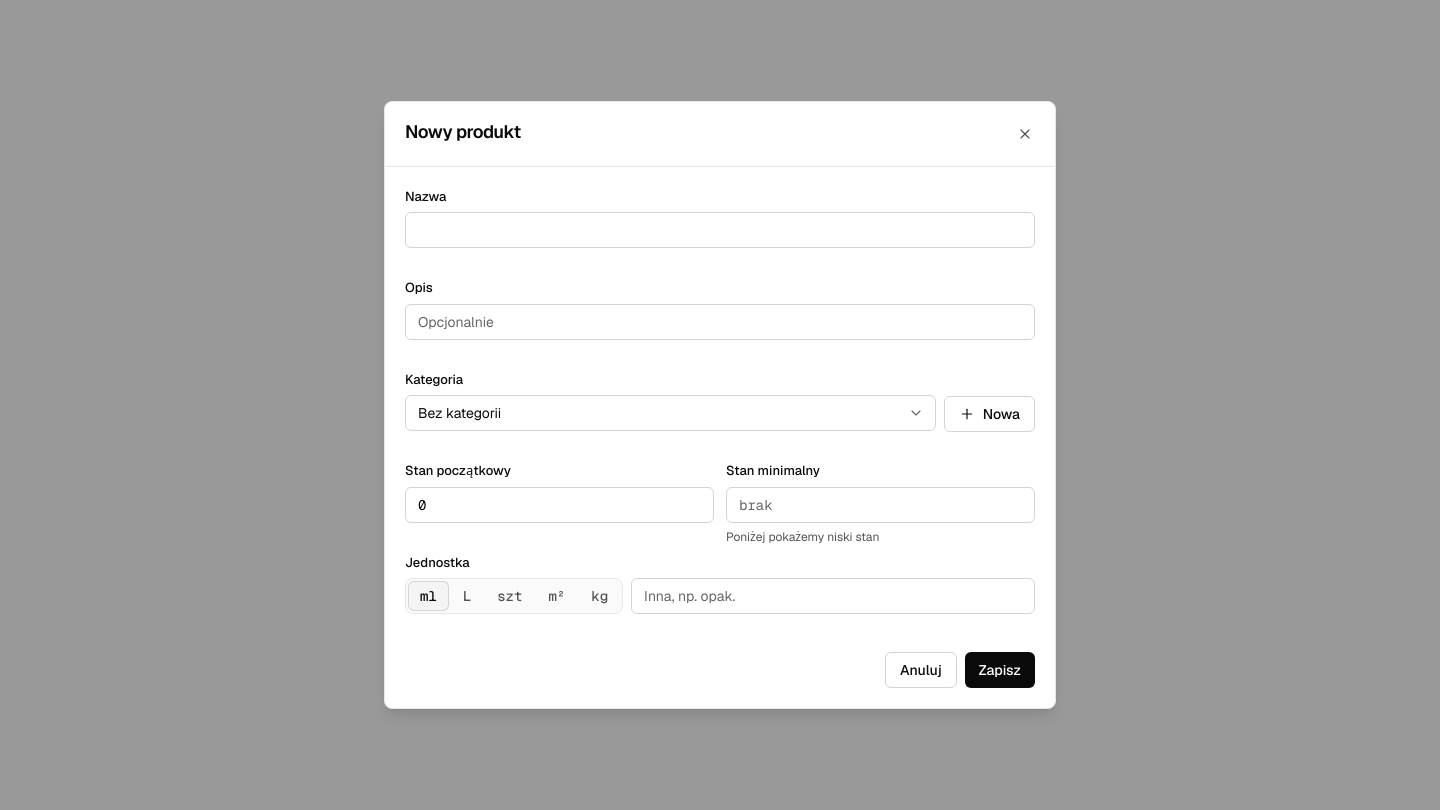
Test case: InventoryItemModal › shows validation errors and does not save an empty item
Step 1. Click the button "Zapisz" → (1000, 670), box [965,652,1035,688]
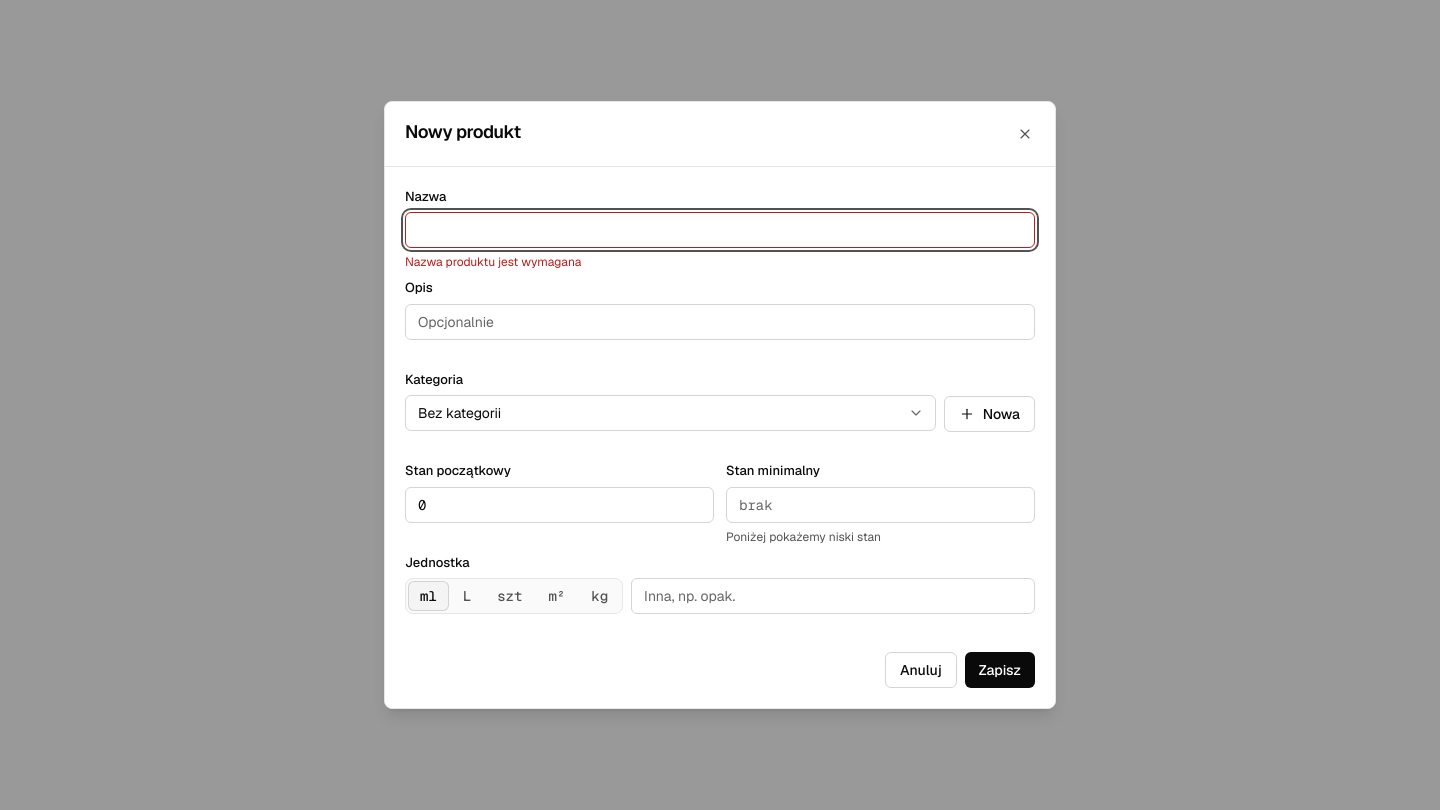
Expected: the text "Nazwa produktu jest wymagana" is shown, [405,254,581,270]
